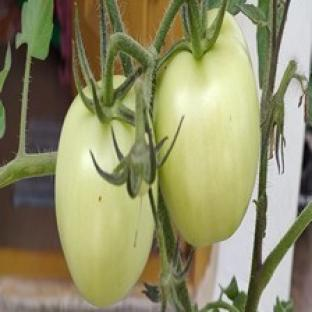Tomato: (155, 14, 260, 246), (56, 97, 154, 306)
